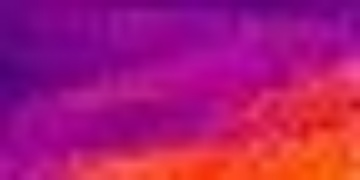Shadow: (1, 1, 359, 84), (1, 85, 232, 144), (1, 145, 81, 179)
